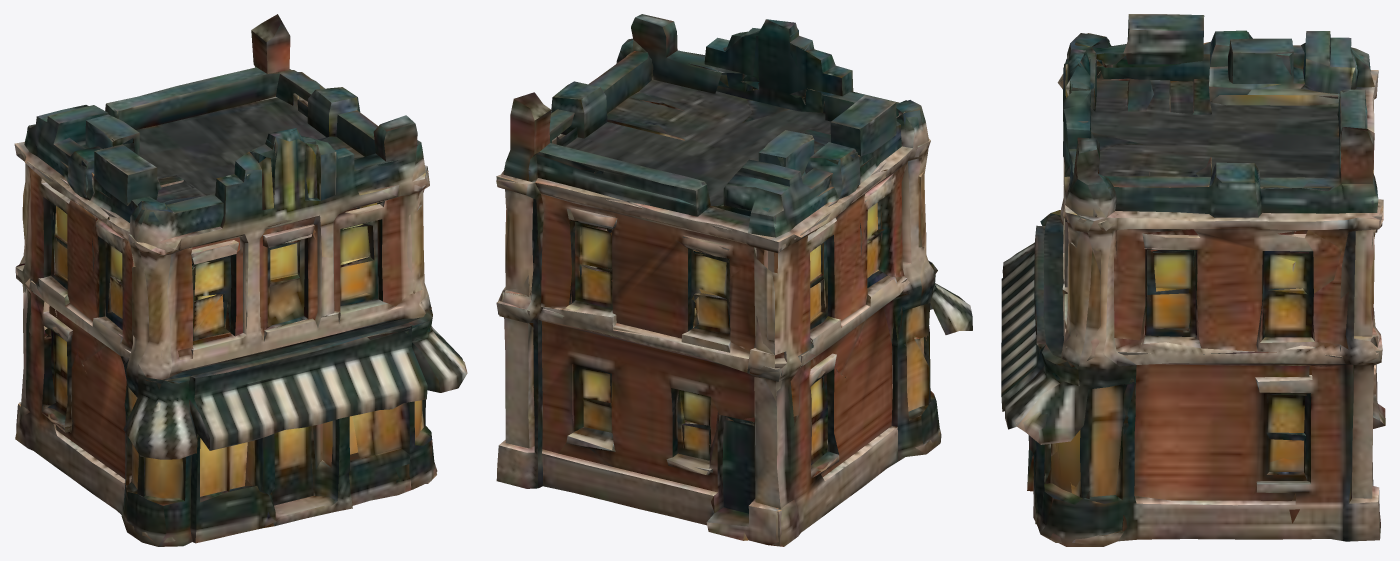
3 renders of one model, left to right at view 1: azimuth 30°, elevation 25°; view 2: azimuth 150°, elevation 25°; view 3: azimuth 270°, elevation 25°, orthographic. The views are drawn at different scales.
Parts seen in each view (by area): view 1: expansion__shop_2__neural_lod; view 2: expansion__shop_2__neural_lod; view 3: expansion__shop_2__neural_lod.
Boxes of the visible parts, box(x1,y1,x2,y2) form: expansion__shop_2__neural_lod: box(14, 14, 467, 546); expansion__shop_2__neural_lod: box(496, 14, 972, 546); expansion__shop_2__neural_lod: box(1001, 14, 1385, 546).
Size of the model in its own units: 0.9238 by 0.9971 by 0.8428.
1 material, 1 textured.
